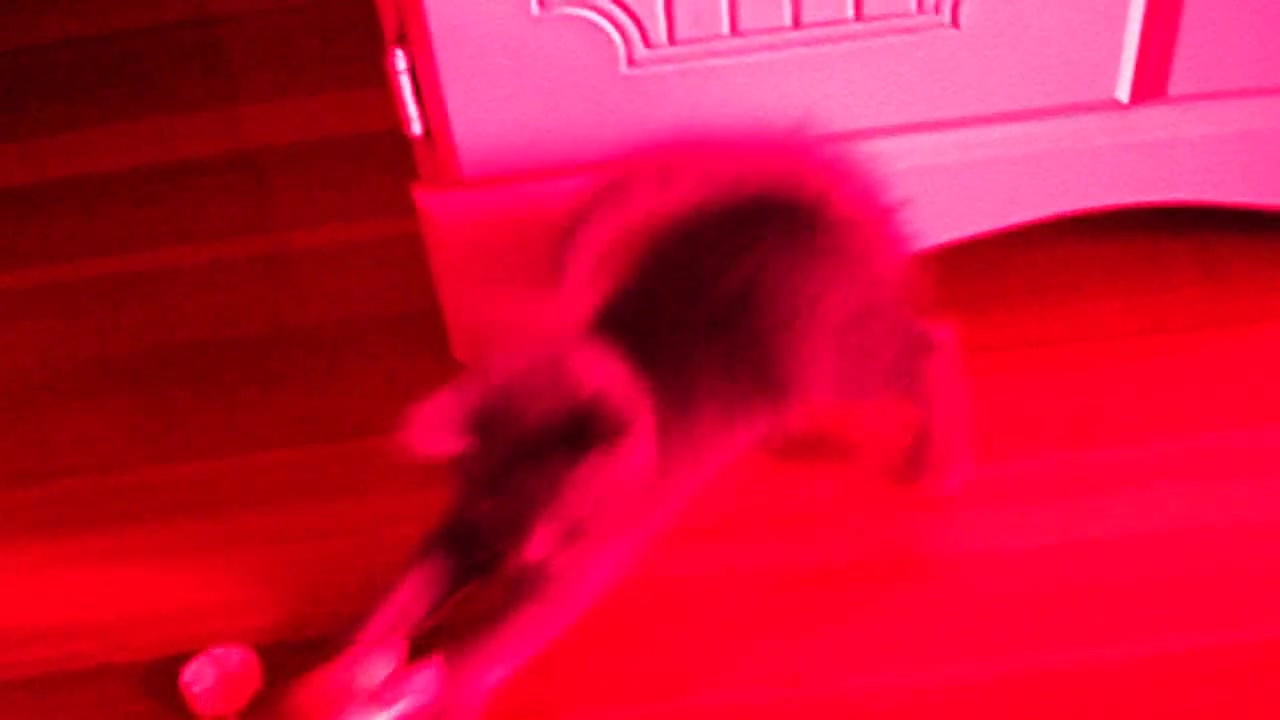cat: (334, 143, 935, 716)
